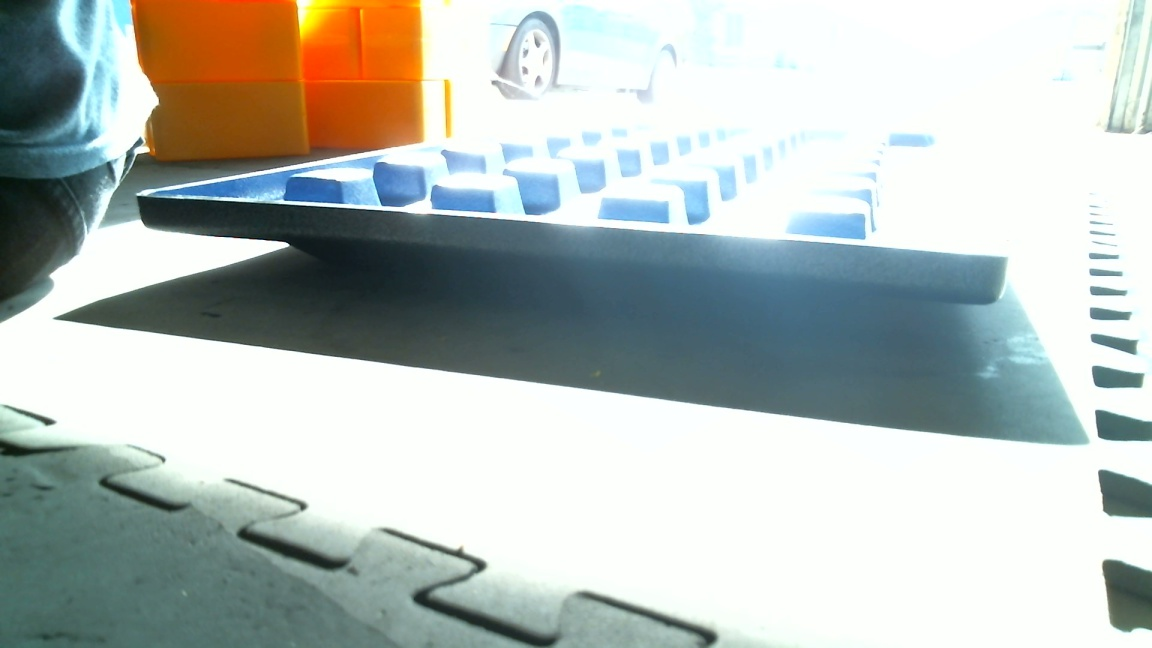blue_foundation: (133, 103, 1015, 312)
